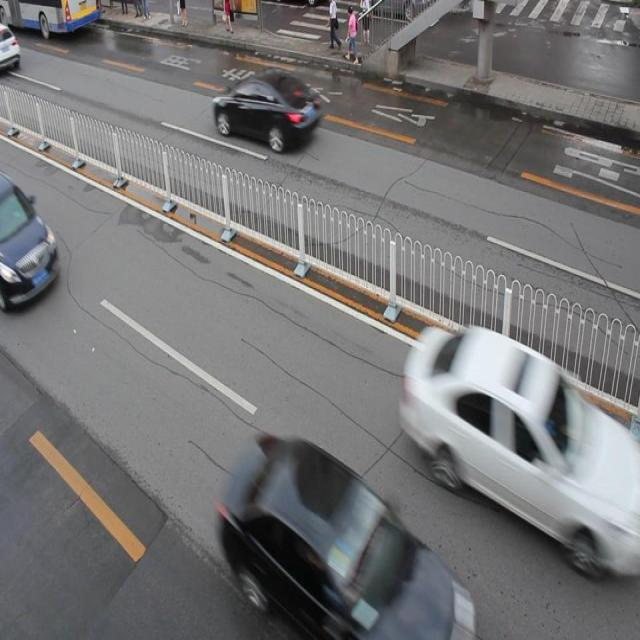car: (404, 324, 613, 564), (220, 437, 467, 640), (213, 67, 321, 152), (1, 25, 21, 78)
truck: (0, 173, 60, 307)
